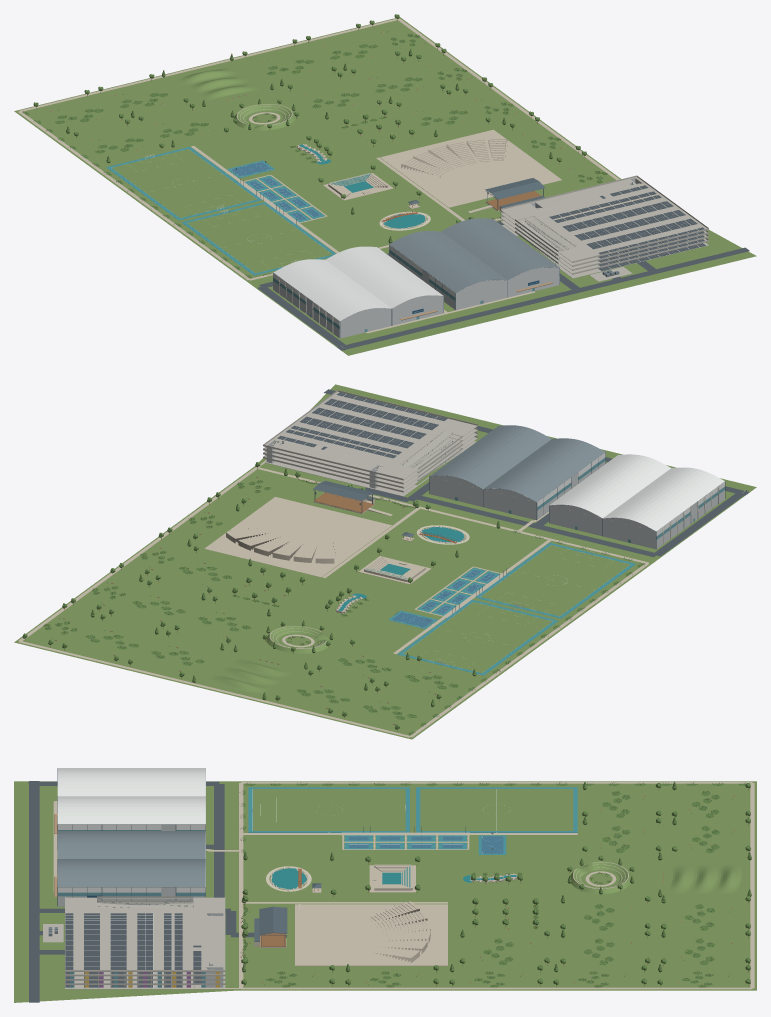
The model's file is option-03.glb.
The picture shows the model from 3 angles, top to bottom: view 1: azimuth 30°, elevation 25°; view 2: azimuth 150°, elevation 25°; view 3: azimuth 270°, elevation 25°; orthographic projection. The views are drawn at different scales.
Parts seen in each view (by area): view 1: 30 acre outdoor activity allocation, option-03 assumed site platform, option-03 Landscape Paved audience reservation 8000 concept , soccer-2 playing surface, soccer-1 playing surface, Roof_sports bowstring insulated roof, Roof_events bowstring insulated roof.001, Roof_events bowstring insulated roof, Roof_sports bowstring insulated roof.001, primary-front corridor 0, Garage L5 deck patch 6-1, option-03 Landscape Native tree lobed canopy (+15 smaller); view 2: 30 acre outdoor activity allocation, option-03 Landscape Paved audience reservation 8000 concept , soccer-1 playing surface, soccer-2 playing surface, option-03 assumed site platform, Roof_sports bowstring insulated roof, Roof_events bowstring insulated roof, Roof_sports bowstring insulated roof.001, Roof_events bowstring insulated roof.001, Garage L5 deck patch 6-1, option-03 Landscape Native tree lobed canopy, option-03 Landscape Prairie dimensional folded blades (+17 smaller); view 3: 30 acre outdoor activity allocation, option-03 assumed site platform, option-03 Landscape Paved audience reservation 8000 concept , soccer-2 playing surface, soccer-1 playing surface, Roof_sports bowstring insulated roof, Roof_sports bowstring insulated roof.001, Roof_events bowstring insulated roof.001, Roof_events bowstring insulated roof, Garage L5 deck patch 6-1, primary-front corridor 0, option-03 Landscape Native tree lobed canopy (+24 smaller).
Part boxes in pixels (<box>): 30 acre outdoor activity allocation: <box>14,17,621,282</box>; option-03 assumed site platform: <box>248,230,756,355</box>; option-03 Landscape Paved audience reservation 8000 concept : <box>380,129,561,207</box>; soccer-2 playing surface: <box>112,149,256,217</box>; soccer-1 playing surface: <box>187,204,332,273</box>; Roof_sports bowstring insulated roof: <box>273,259,391,320</box>; Roof_events bowstring insulated roof.001: <box>441,218,558,280</box>; Roof_events bowstring insulated roof: <box>389,231,506,292</box>; Roof_sports bowstring insulated roof.001: <box>325,246,443,308</box>; primary-front corridor 0: <box>337,247,749,350</box>; Garage L5 deck patch 6-1: <box>549,190,679,242</box>; option-03 Landscape Native tree lobed canopy: <box>33,14,586,222</box>; 30 acre outdoor activity allocation: <box>14,466,652,739</box>; option-03 Landscape Paved audience reservation 8000 concept : <box>204,497,391,577</box>; soccer-1 playing surface: <box>481,545,630,616</box>; soccer-2 playing surface: <box>403,602,552,672</box>; option-03 assumed site platform: <box>259,384,756,562</box>; Roof_sports bowstring insulated roof: <box>603,467,724,531</box>; Roof_events bowstring insulated roof: <box>483,438,605,502</box>; Roof_sports bowstring insulated roof.001: <box>549,454,670,518</box>; Roof_events bowstring insulated roof.001: <box>430,425,551,488</box>; Garage L5 deck patch 6-1: <box>292,407,426,460</box>; option-03 Landscape Native tree lobed canopy: <box>22,462,441,729</box>; option-03 Landscape Prairie dimensional folded blades: <box>43,480,645,734</box>; 30 acre outdoor activity allocation: <box>236,781,756,990</box>; option-03 assumed site platform: <box>14,781,236,1002</box>; option-03 Landscape Paved audience reservation 8000 concept : <box>295,904,447,965</box>; soccer-2 playing surface: <box>420,789,573,830</box>; soccer-1 playing surface: <box>253,789,405,830</box>; Roof_sports bowstring insulated roof: <box>57,768,205,796</box>; Roof_sports bowstring insulated roof.001: <box>57,796,205,824</box>; Roof_events bowstring insulated roof.001: <box>57,859,205,887</box>; Roof_events bowstring insulated roof: <box>57,831,205,858</box>; Garage L5 deck patch 6-1: <box>97,916,193,964</box>; primary-front corridor 0: <box>29,781,39,1002</box>; option-03 Landscape Native tree lobed canopy: <box>241,782,750,984</box>.
Bounding box in the file's own units: 360 × 20.17 × 510.
